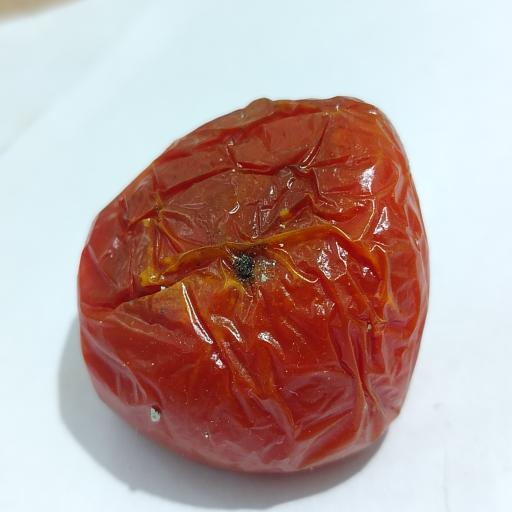spoiled: (78, 97, 429, 473)
